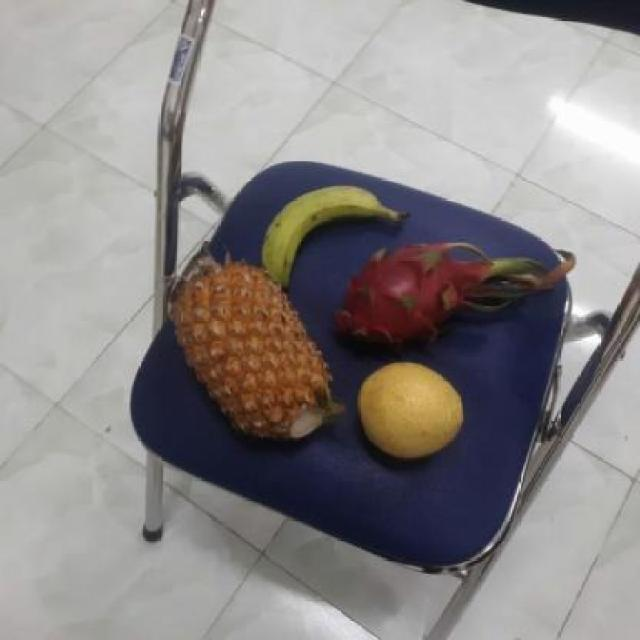banana: (247, 182, 391, 280)
dragon fruit: (330, 242, 490, 360)
pear: (351, 362, 467, 461)
pineapple: (169, 262, 336, 440)
